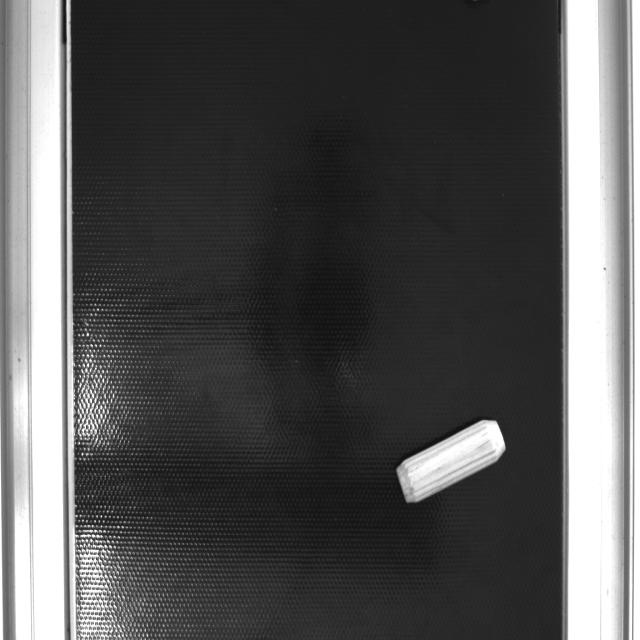Chot go: (394, 412, 510, 510)
